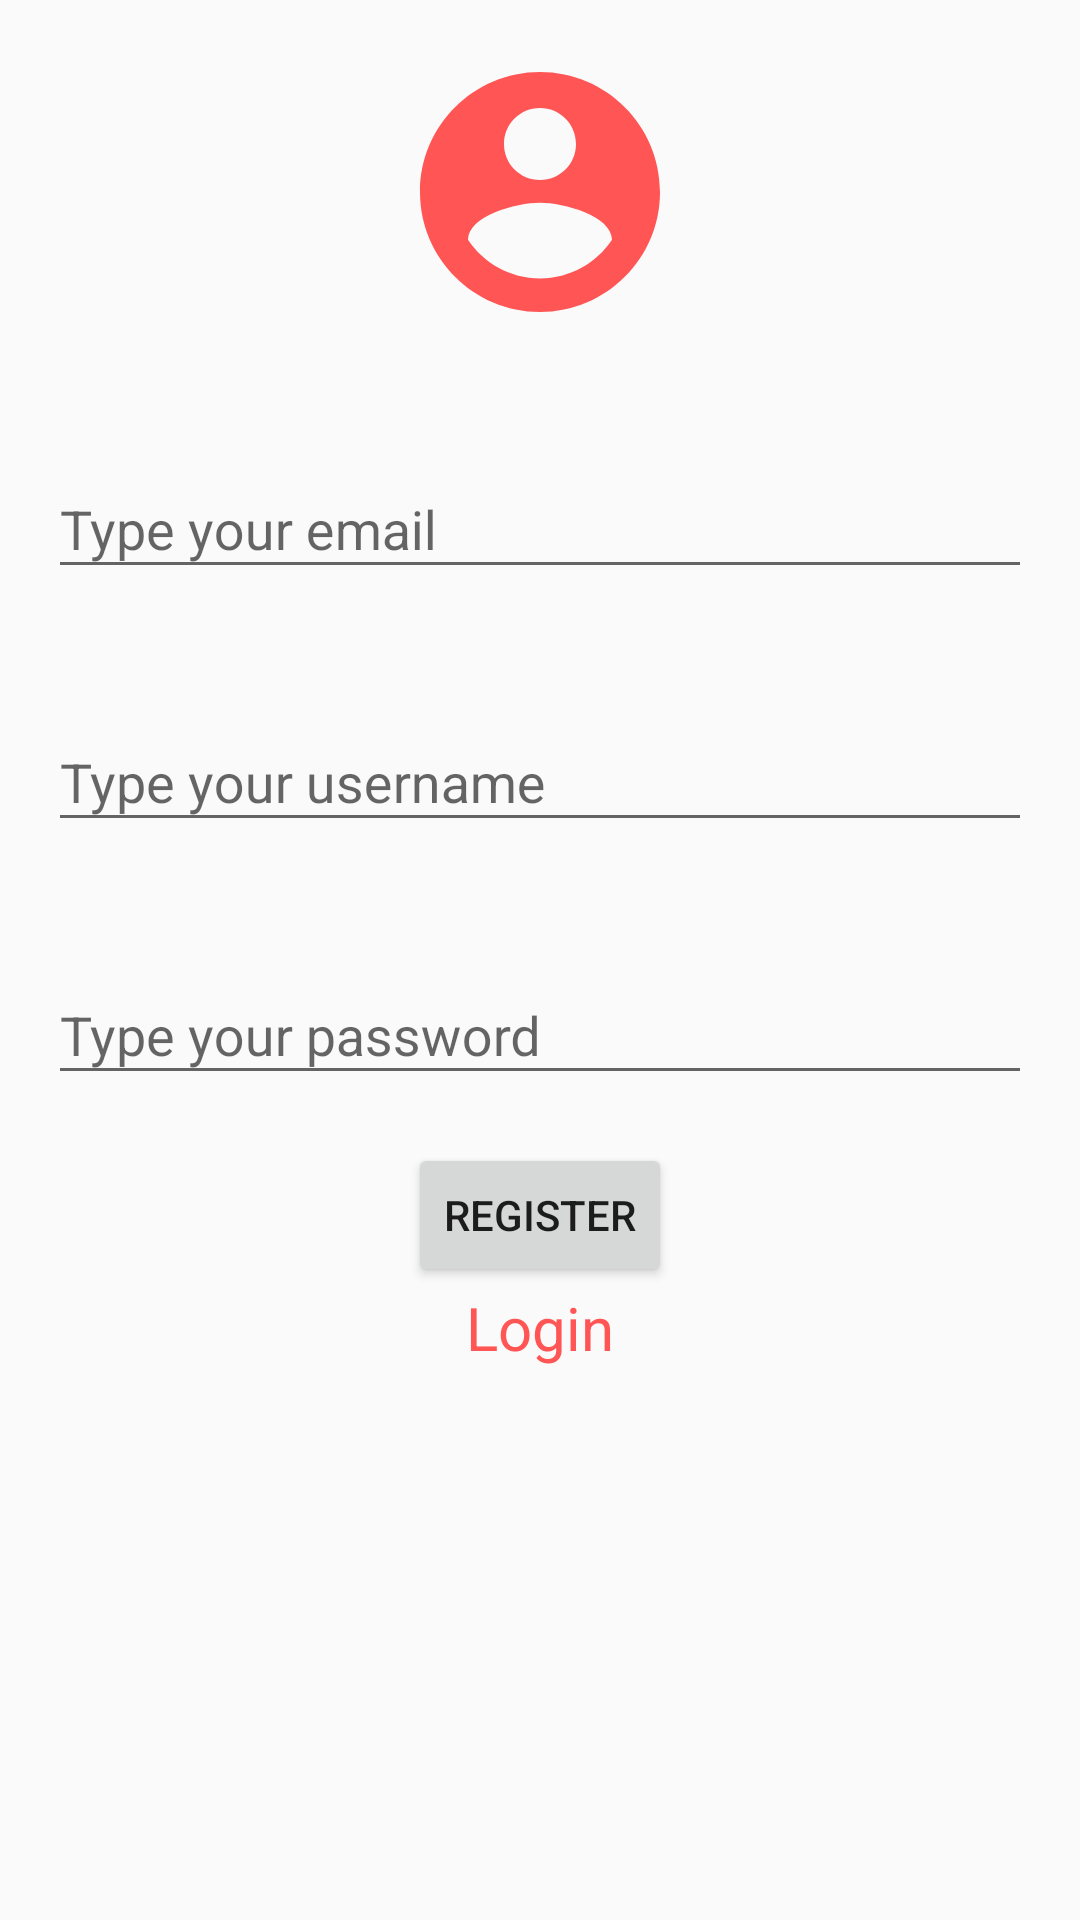

Where to tap for icons on this 1080 x 1920 app screen, as (x,y):
account: (540,192)
